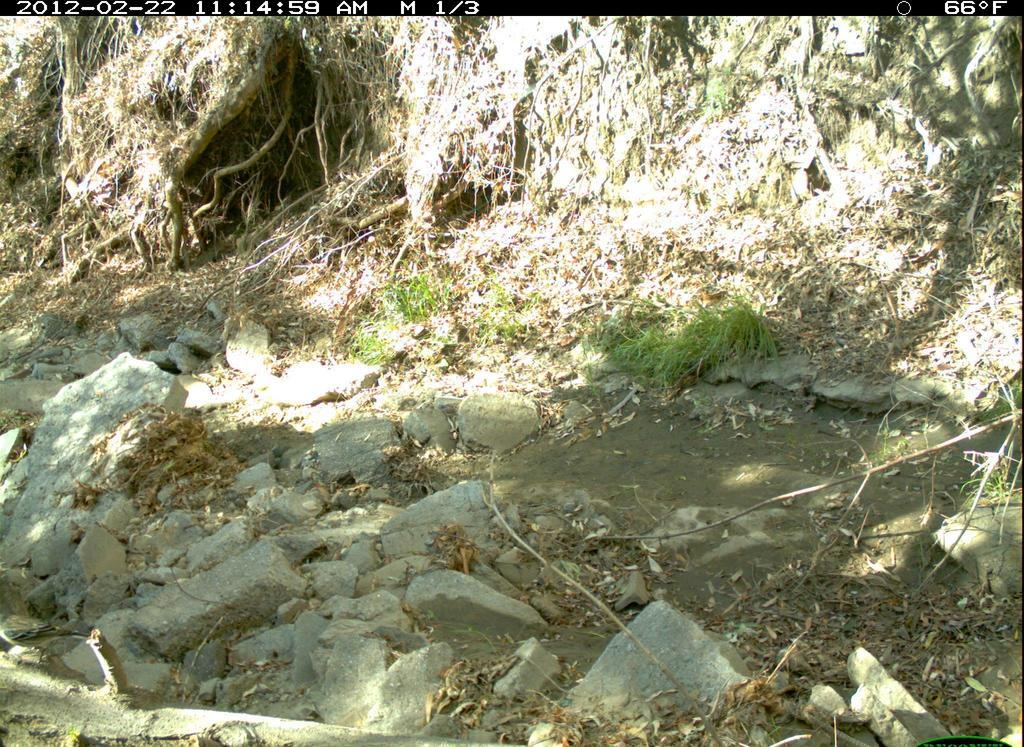bird: (2, 594, 94, 684)
